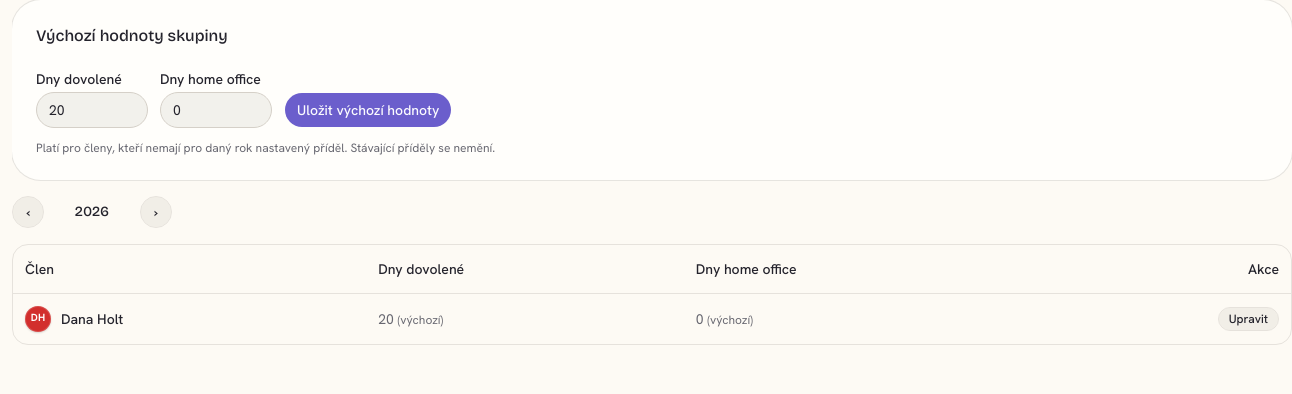
group detail saves refused by a plan limit › explains a refused group quota defaults save in the user's language
This screenshot has width=1292, height=394.
Step 1. Click the button "Uložit výchozí hodnoty" → (368, 110), box [284,92,452,128]
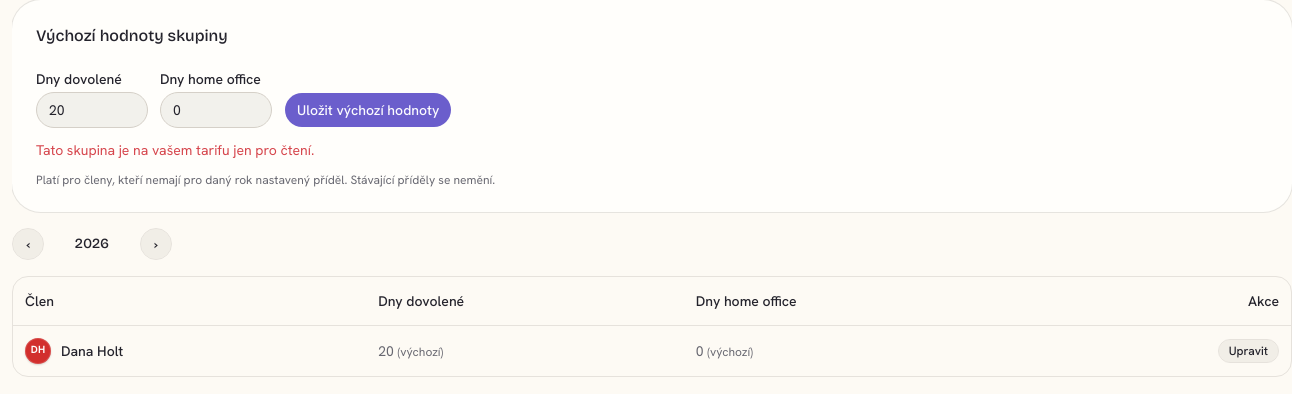
Now the text "Tato skupina je na vašem tarifu jen pro čtení." is shown, box [36,141,314,159]
